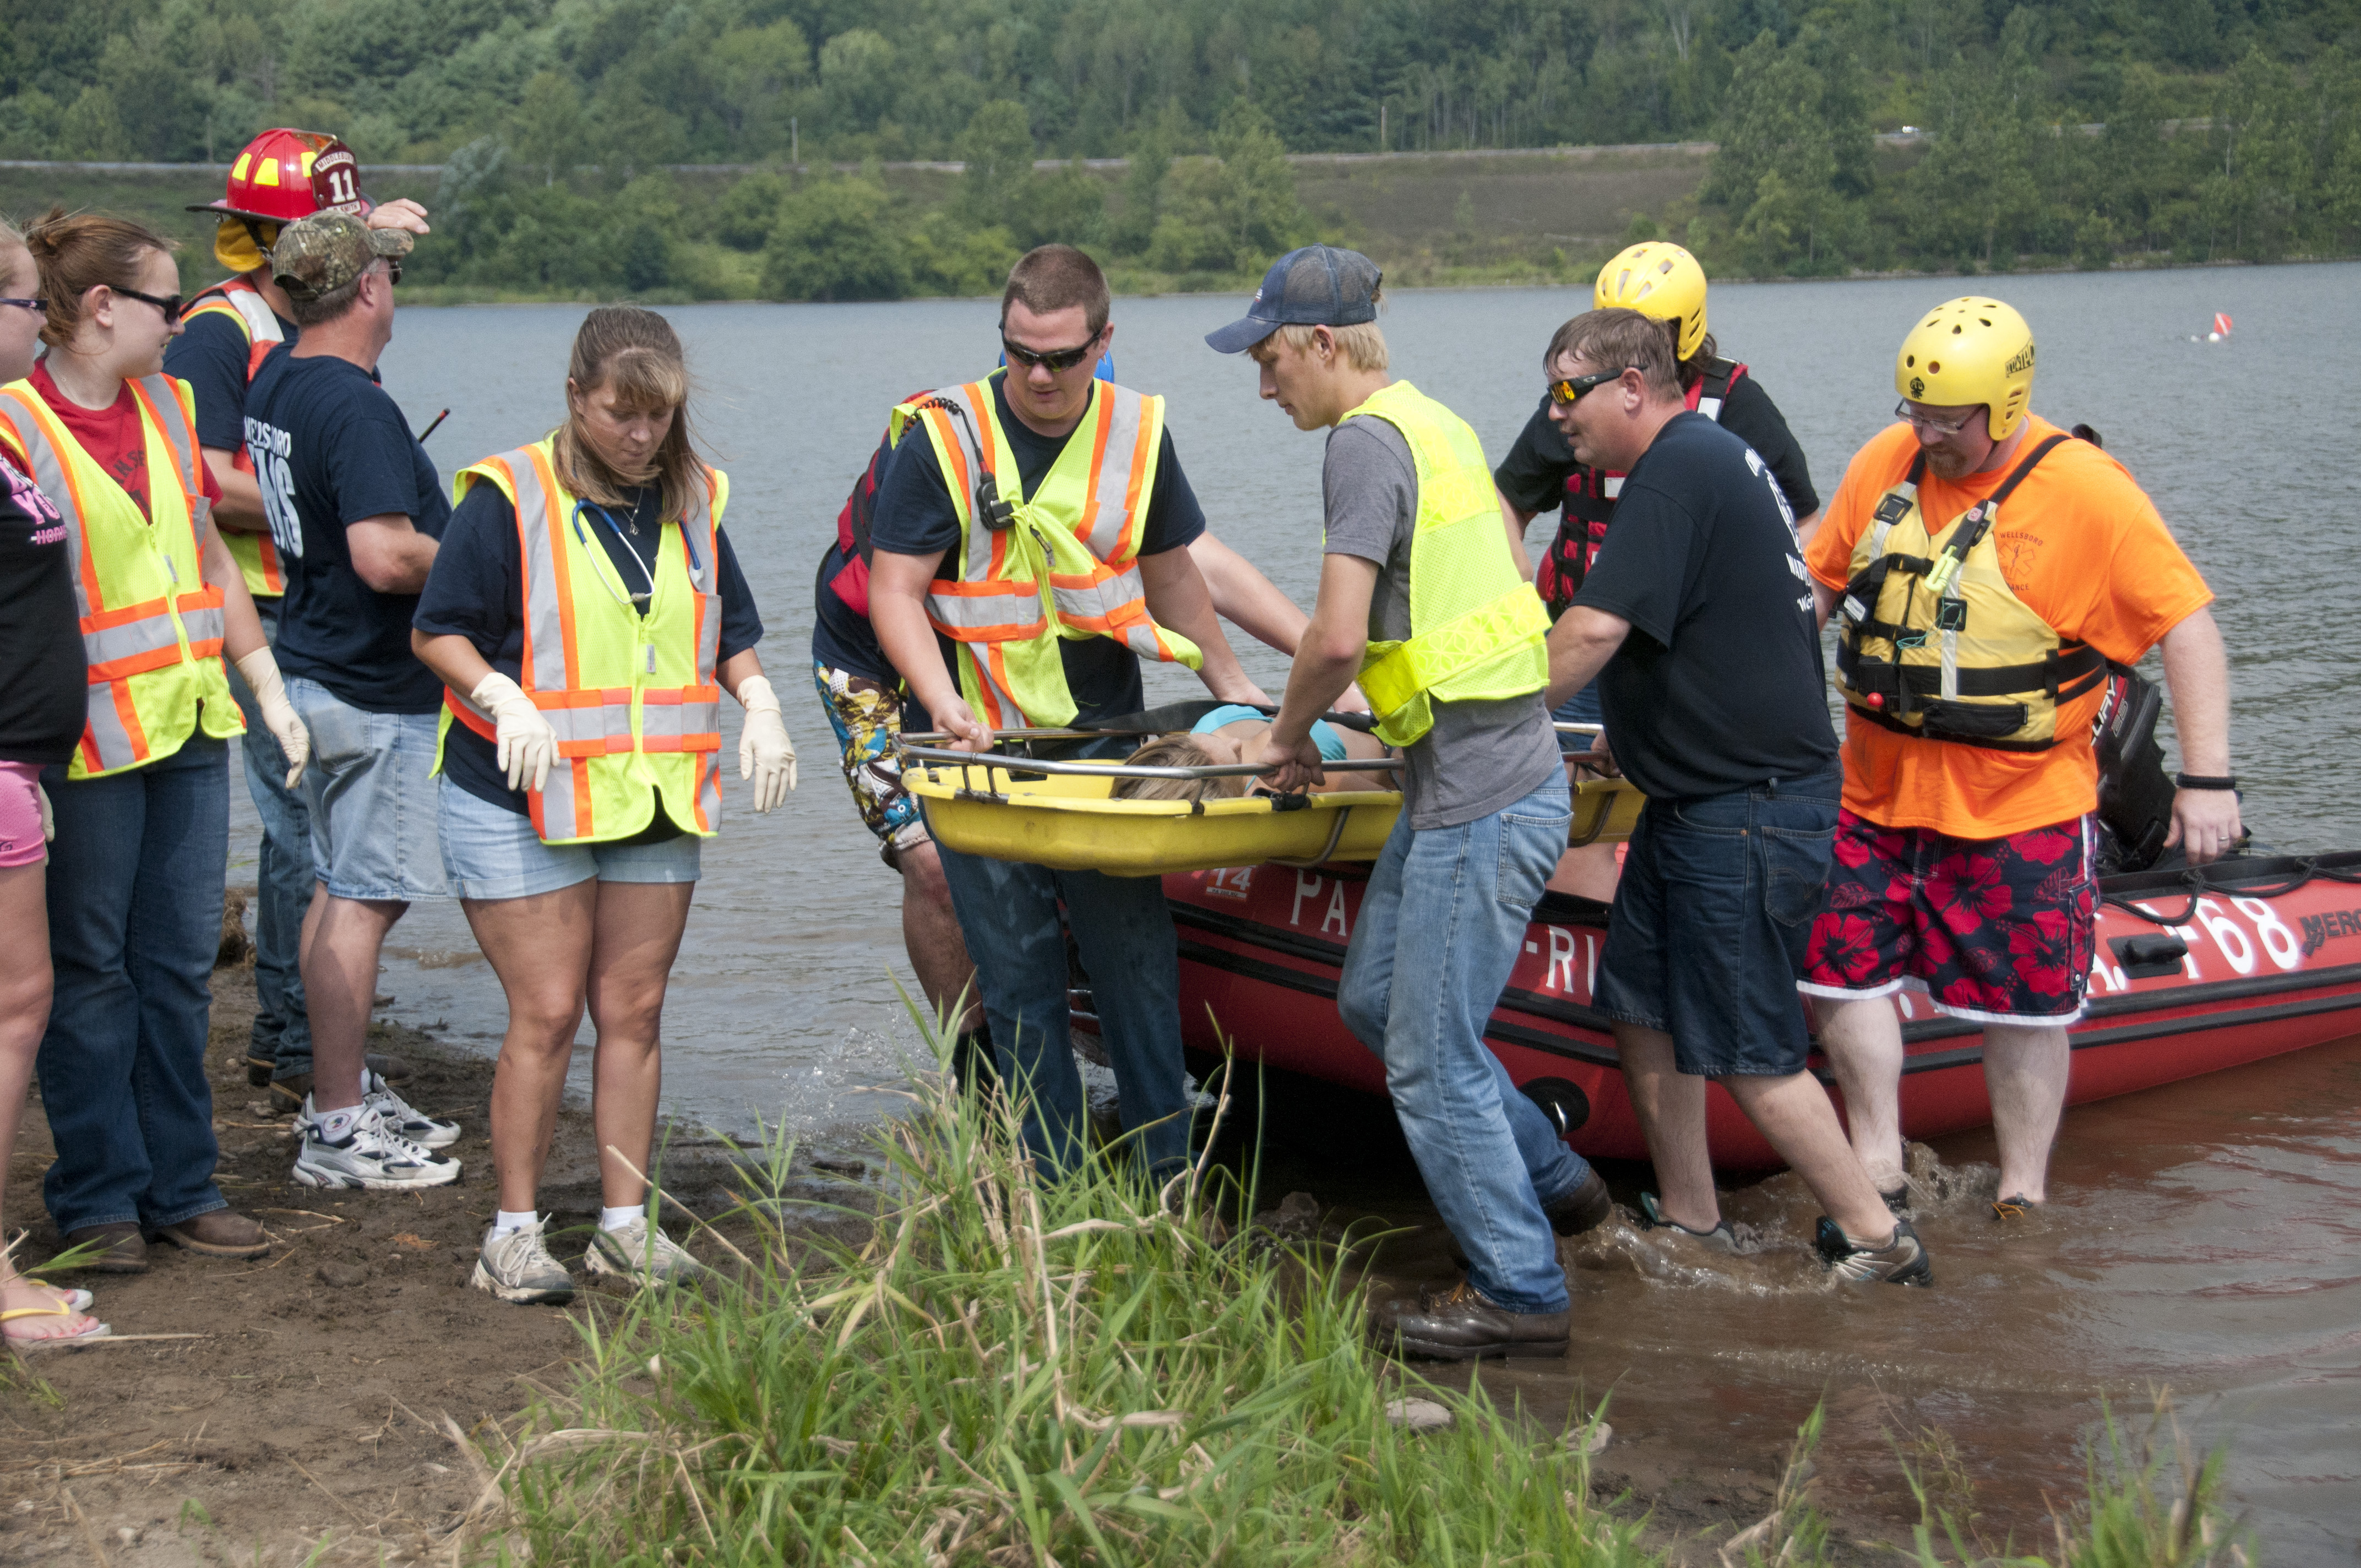Person: (1801, 237, 2242, 1249), (869, 235, 1287, 1186), (1210, 251, 1568, 1352), (1544, 319, 1928, 1288), (440, 305, 801, 1299), (42, 223, 279, 1278), (263, 220, 480, 1189), (3, 222, 108, 1352), (183, 127, 364, 625)
Vest: (872, 249, 1177, 749), (1250, 262, 1547, 733), (451, 400, 729, 844), (51, 245, 243, 783)
